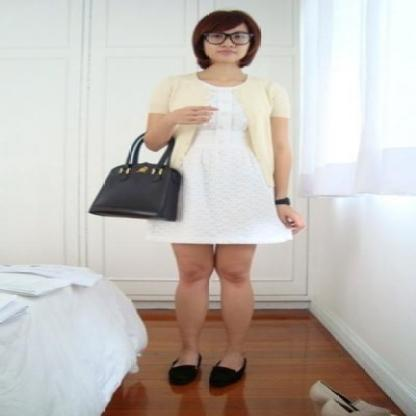bag: (88, 135, 181, 221)
dress: (150, 83, 286, 246)
jacket: (148, 72, 278, 160)
shoe: (168, 358, 246, 388)
